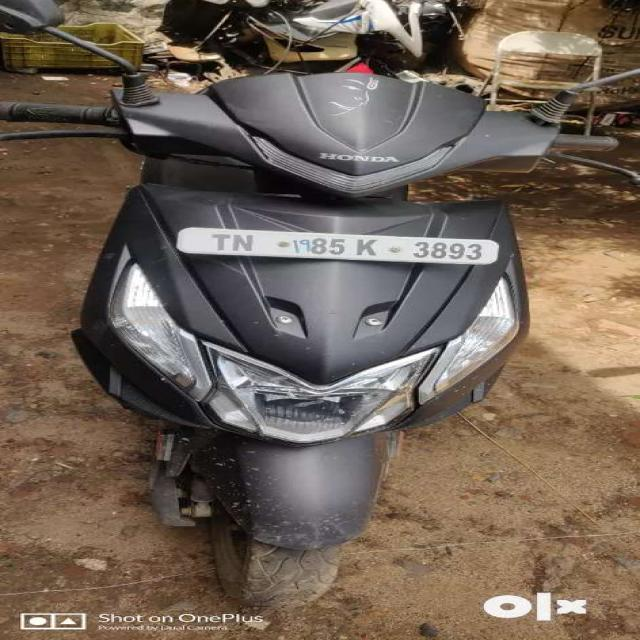license_plate: (174, 225, 501, 266)
